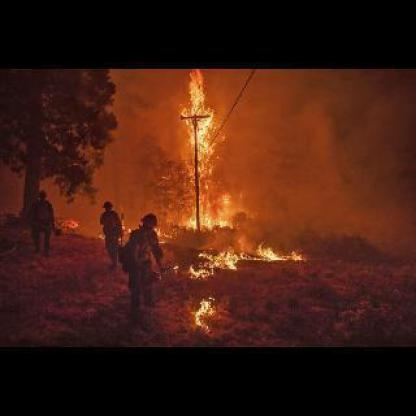fire: (164, 73, 304, 276), (186, 294, 218, 331)
